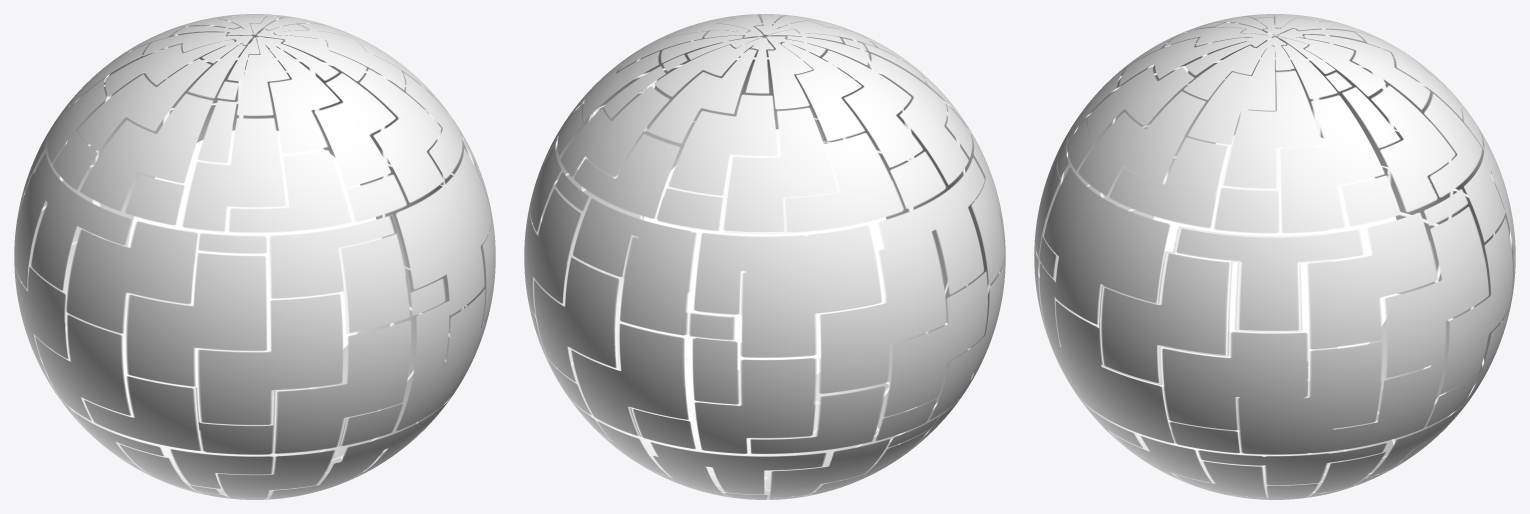
The model's file is luz.glb.
3 renders of one model, left to right at view 1: azimuth 30°, elevation 25°; view 2: azimuth 150°, elevation 25°; view 3: azimuth 270°, elevation 25°, orthographic.
Parts seen in each view (by area): view 1: OmegaSphere, InnerSphere; view 2: OmegaSphere, InnerSphere; view 3: OmegaSphere, InnerSphere.
Part boxes in pixels (x1=…): OmegaSphere: x1=14, y1=14, x2=495, y2=499; InnerSphere: x1=128, y1=130, x2=380, y2=371; OmegaSphere: x1=524, y1=14, x2=1005, y2=499; InnerSphere: x1=643, y1=129, x2=886, y2=382; OmegaSphere: x1=1034, y1=14, x2=1515, y2=499; InnerSphere: x1=1153, y1=135, x2=1396, y2=380.
Bounding box in the file's own units: 39.44 × 39.96 × 39.44.
2 materials, 1 textured.
